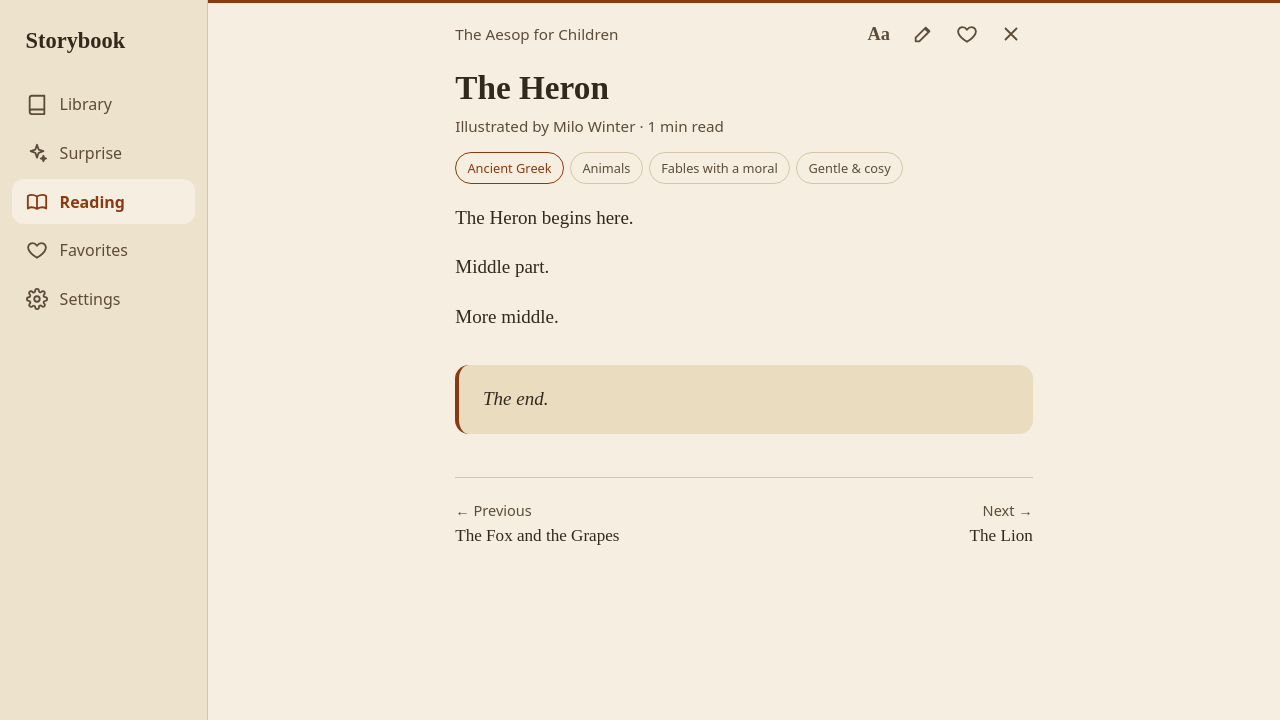
Test: ReaderPage › closes the reading settings panel on Escape or a click elsewhere
The width and height of the screenshot is (1280, 720).
Expected: the text "The Heron begins here." is shown, [455, 207, 634, 228]
Click the button with aria-label "Reading settings" at {"x": 879, "y": 34}, box [857, 12, 901, 56]
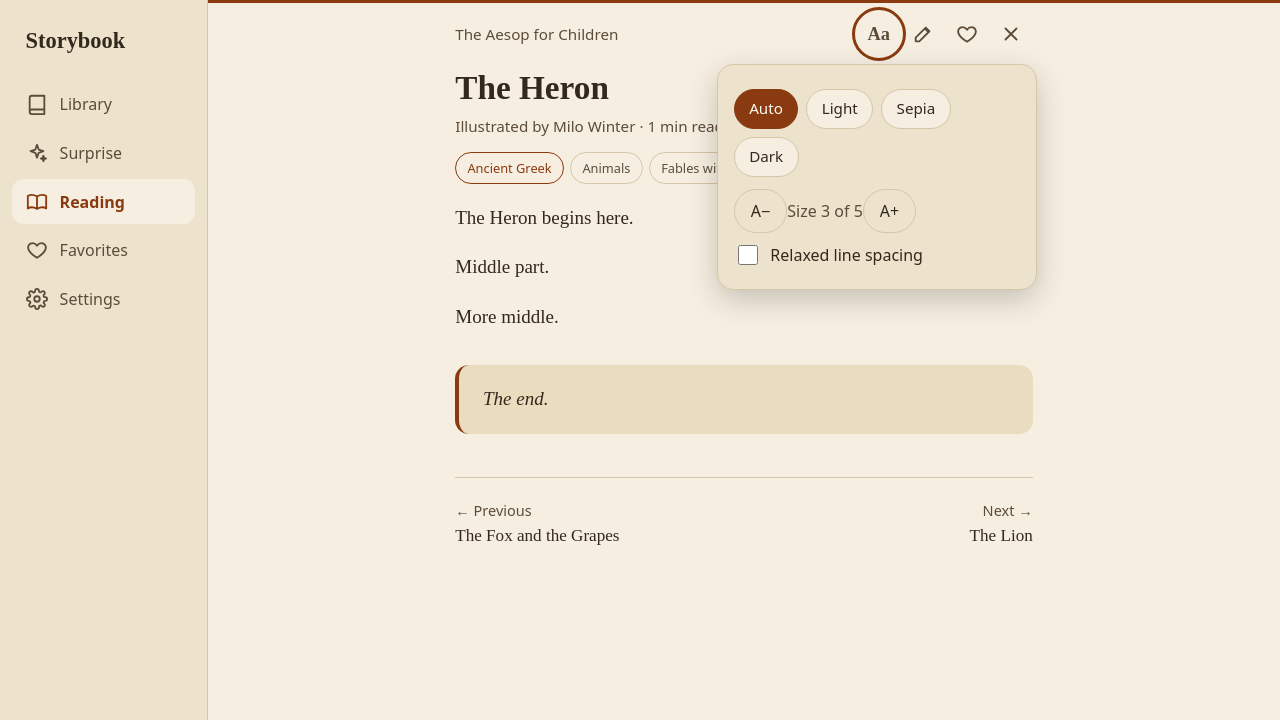
Now the element named "Theme" is shown, box [734, 89, 951, 177]
Press Escape
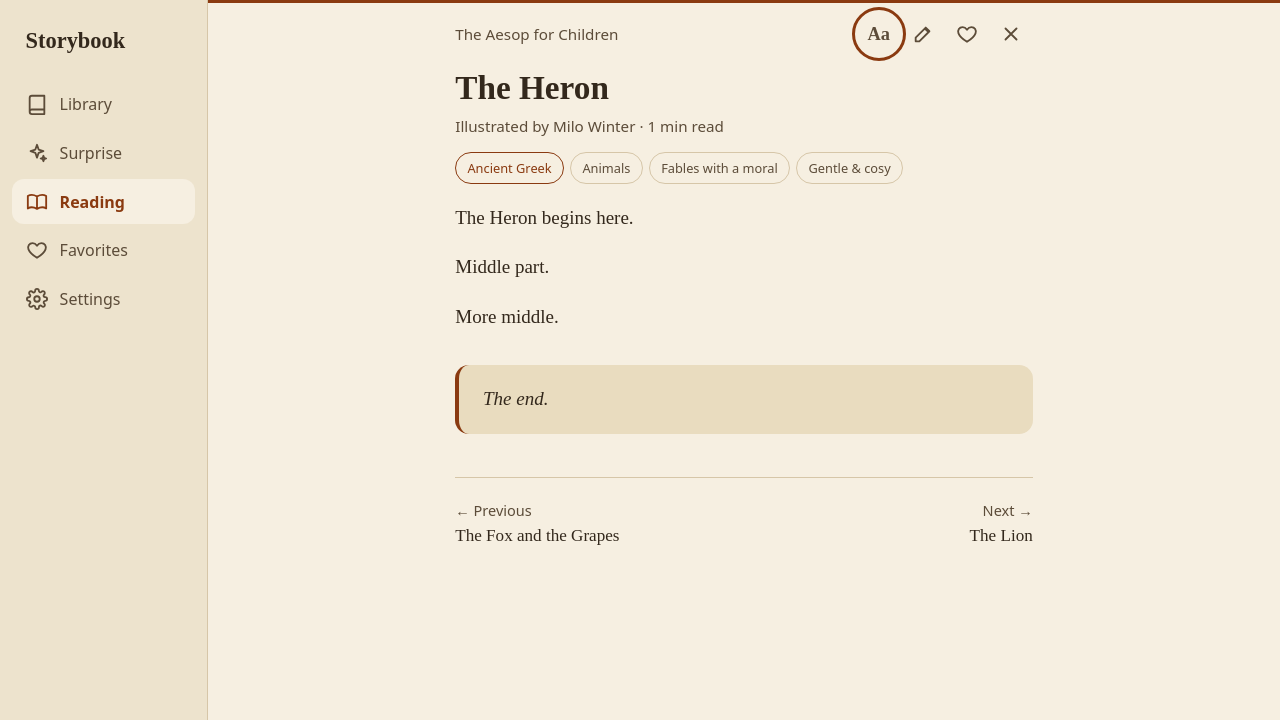
Now the element "Theme" is gone
Click the button with aria-label "Reading settings" at {"x": 879, "y": 34}, box [857, 12, 901, 56]
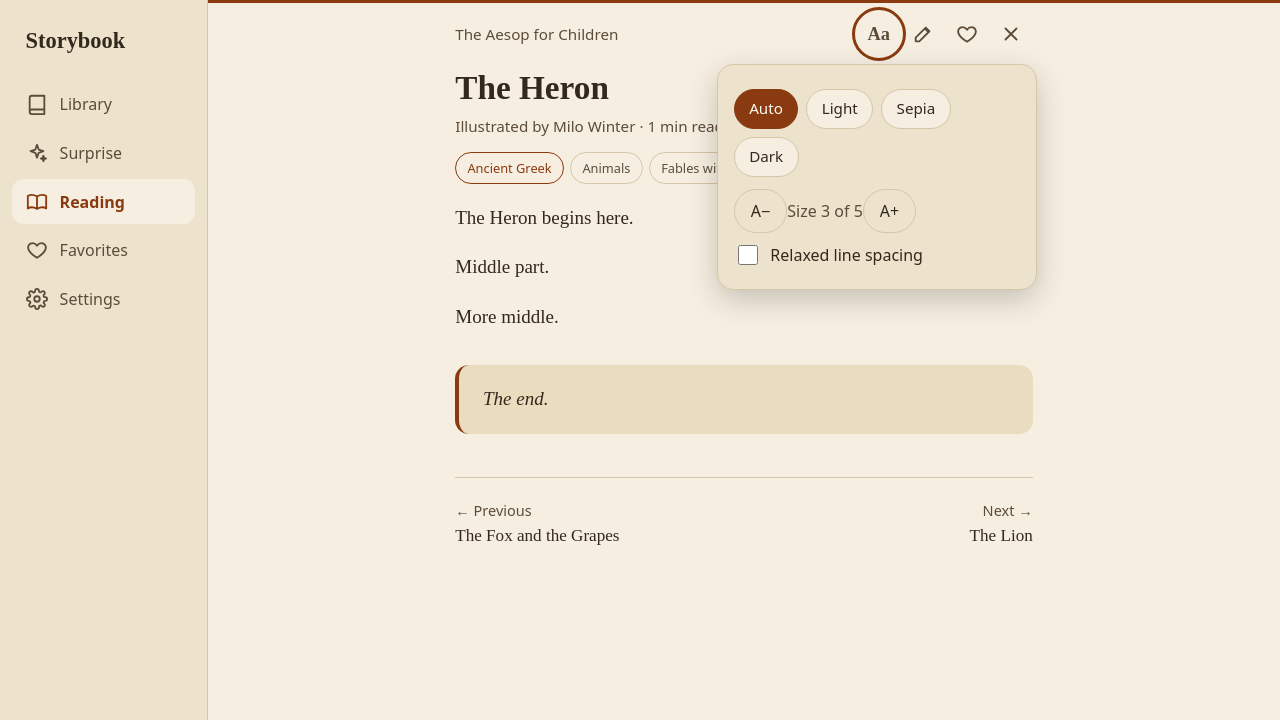
Click the text "The Heron begins here." at {"x": 544, "y": 218}, box [455, 207, 634, 228]
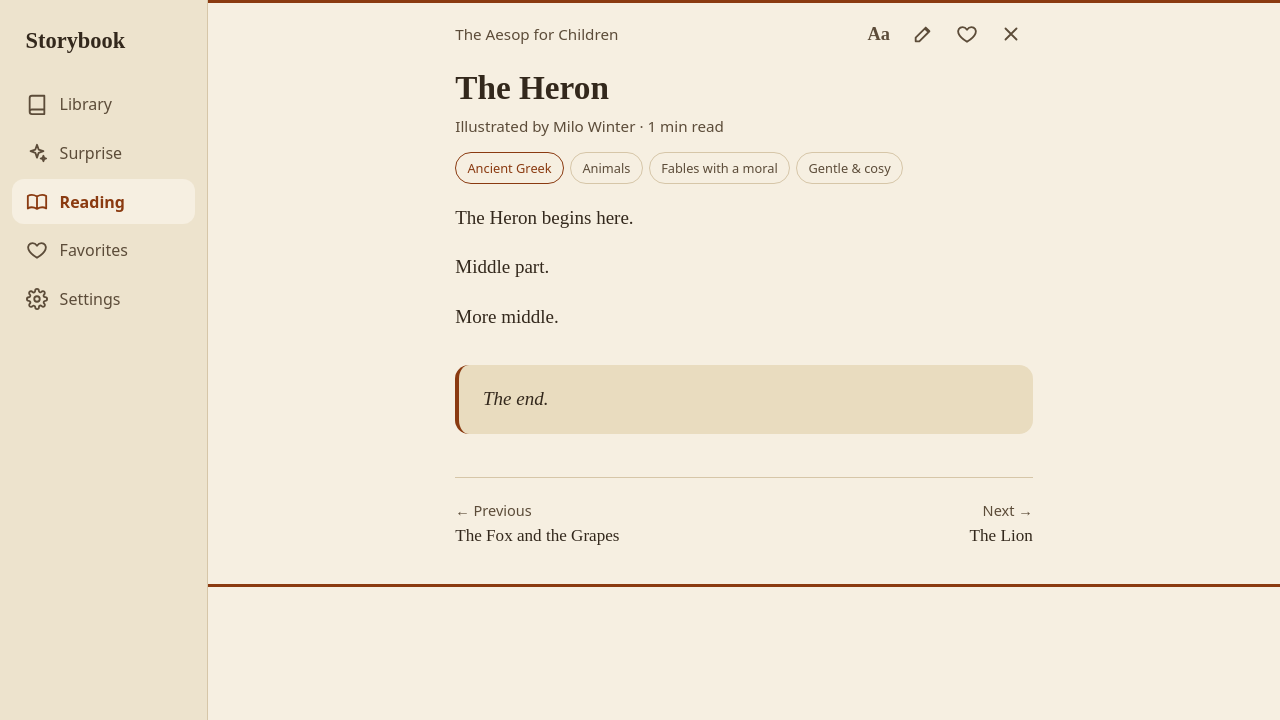
Now the element "Theme" is gone
